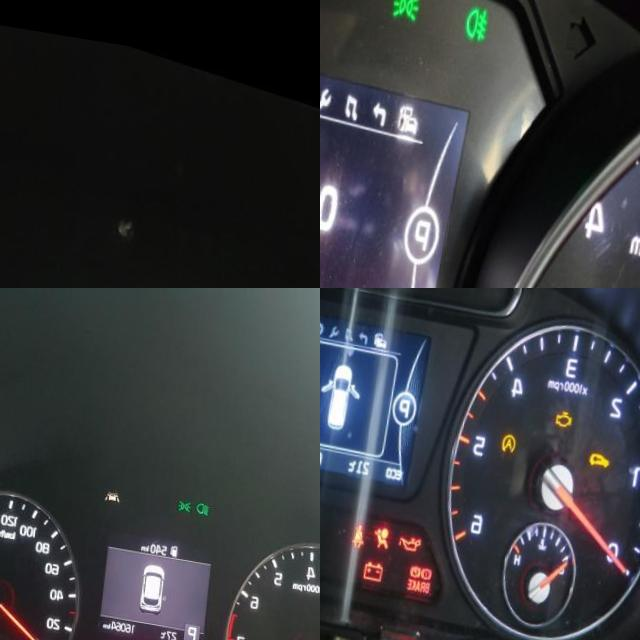FrontFogLight: (466, 0, 493, 26)
LaneCenteringOff: (110, 480, 126, 494)
Low beam: (202, 489, 215, 505)
SideLamp: (394, 0, 424, 11), (184, 489, 197, 500)
